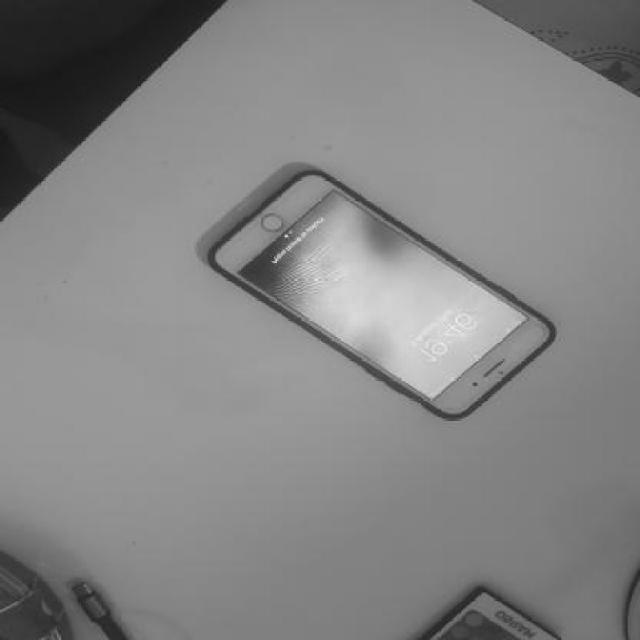fake: (213, 172, 558, 422)
